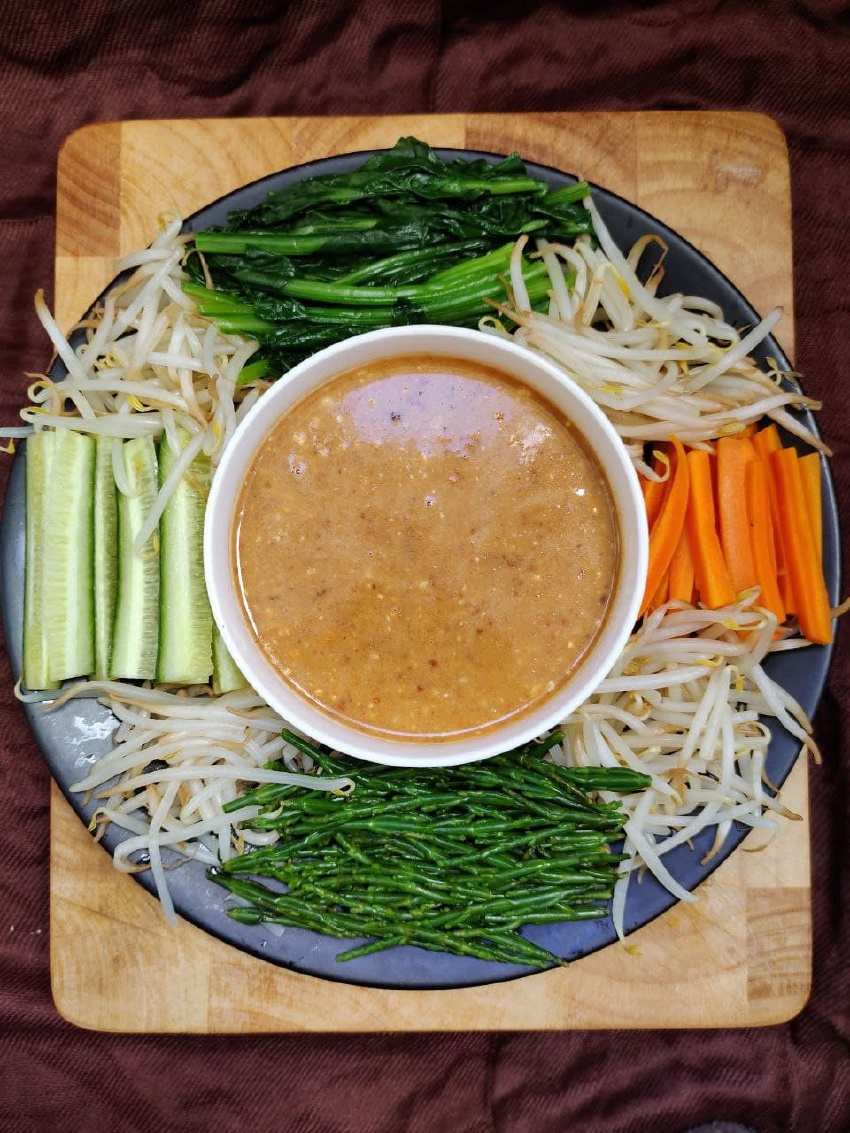pecel: (33, 157, 821, 1001)
